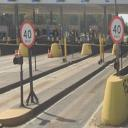speed_limit_40: (19, 20, 36, 48), (109, 17, 125, 44)
